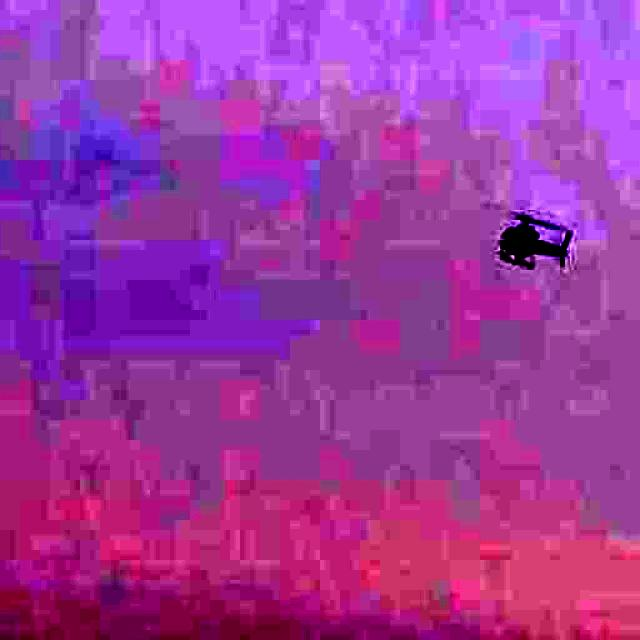drone: (471, 178, 589, 290)
